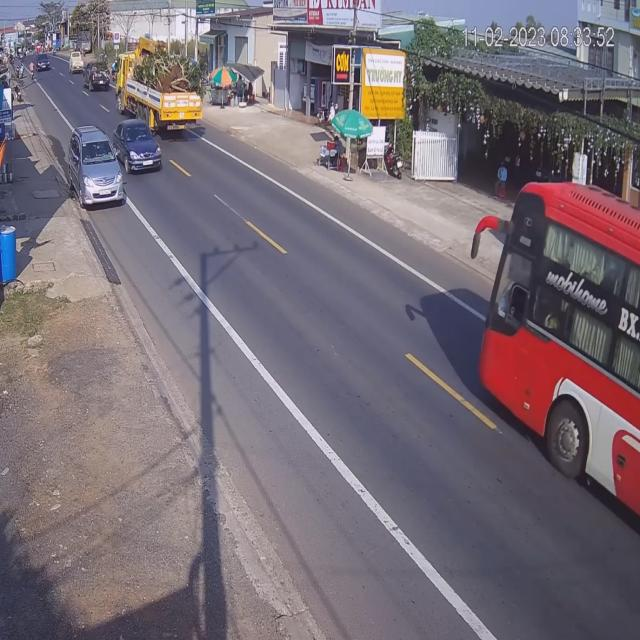bus: (478, 181, 638, 545)
car: (67, 127, 125, 211), (115, 118, 163, 176), (83, 60, 110, 94), (34, 51, 52, 74)
truck: (113, 40, 201, 130), (68, 49, 84, 74)
